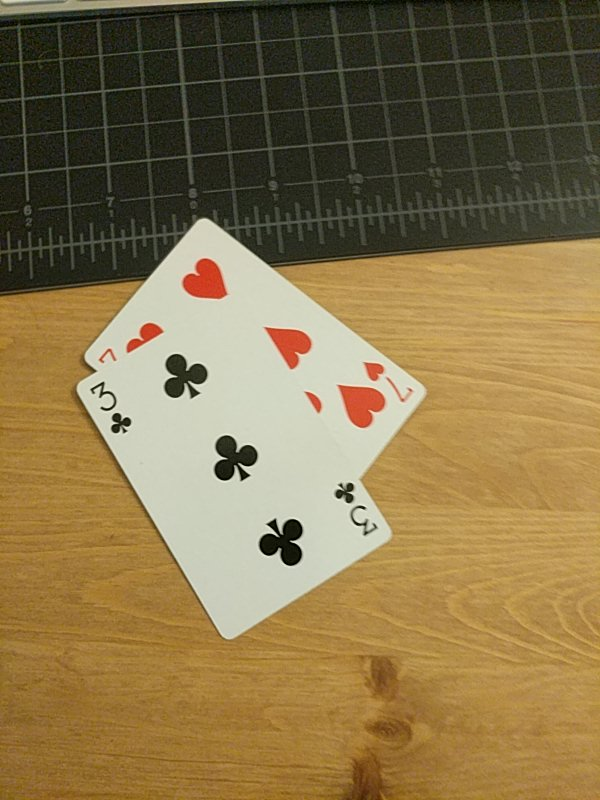Clubs: (74, 296, 395, 642)
Hearts: (81, 215, 428, 481)
